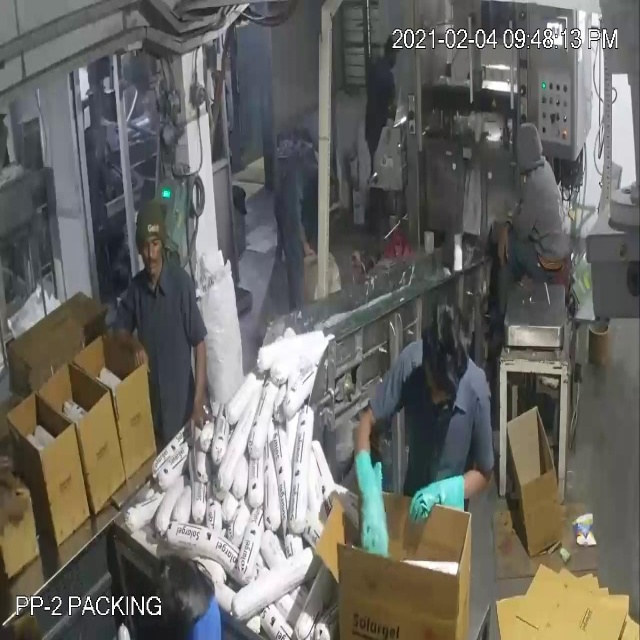Guantes: (331, 429, 396, 571), (390, 445, 480, 542)
Sin_guantes: (177, 324, 221, 440), (107, 309, 156, 381), (485, 205, 524, 285)
